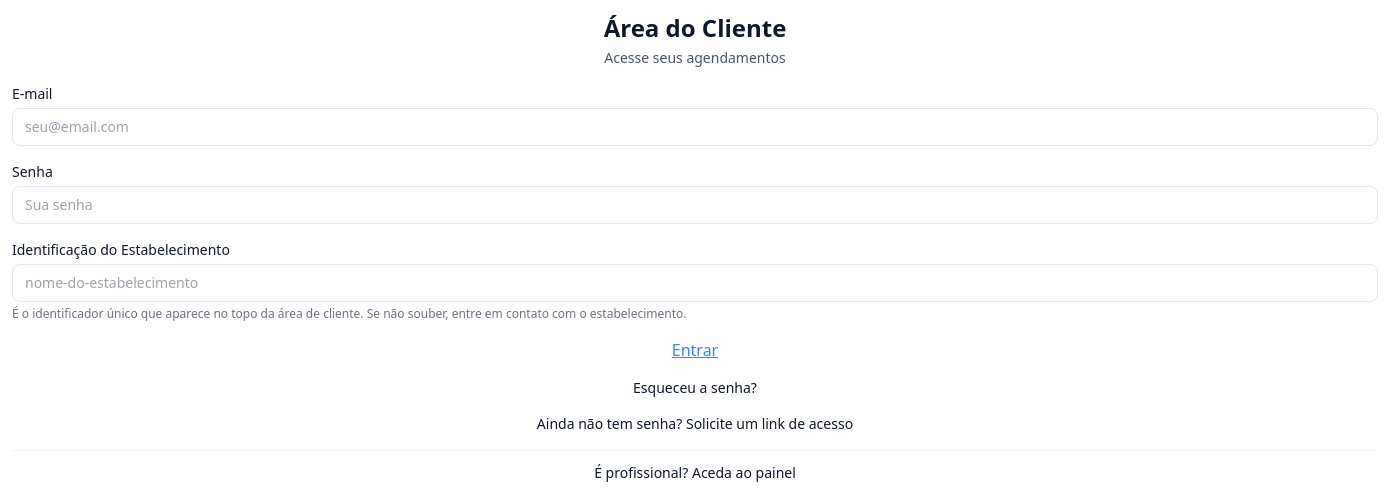
it: ClientLogin › Loading State › disables submit button while loading
The width and height of the screenshot is (1390, 499).
Type "test@email.com" into the field labelled "E-mail".
click(695, 127); type("test@email.com")  # box [12,108,1378,146]
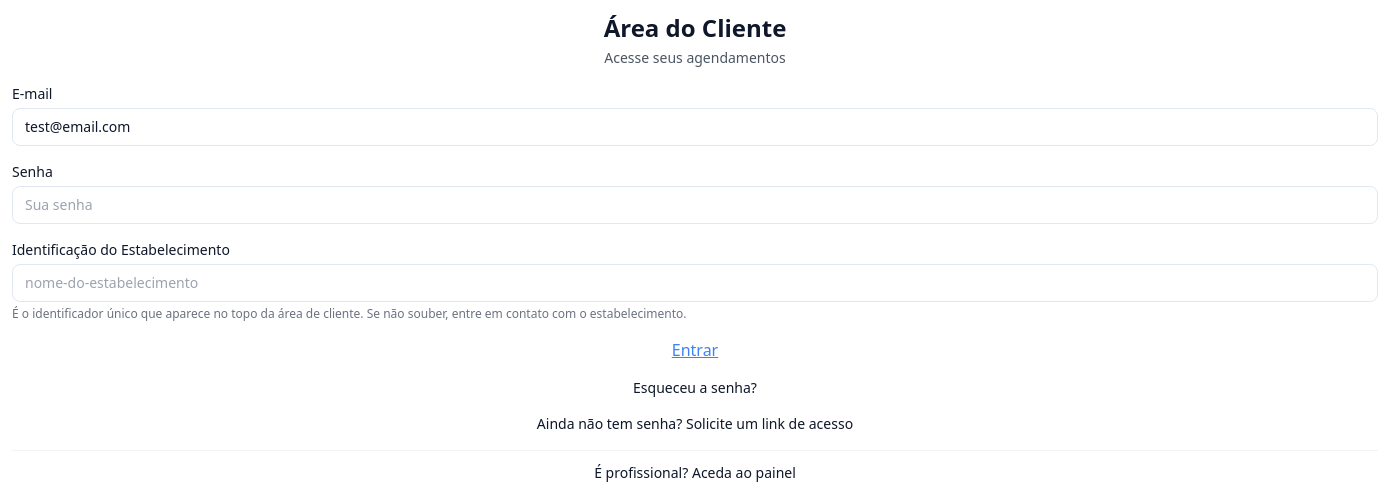
Type "password123" into the password field labelled "Senha".
click(695, 205); type("password123")  # box [12,186,1378,224]
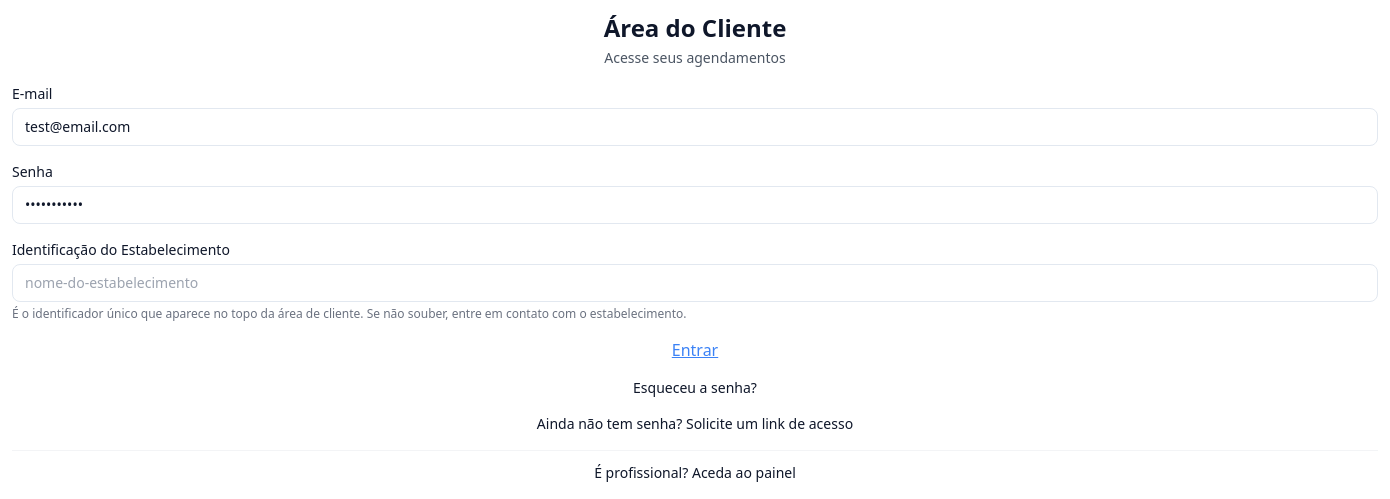
Type "test-salon" into the field labelled "Identificação do Estabelecimento".
click(695, 283); type("test-salon")  # box [12,264,1378,302]
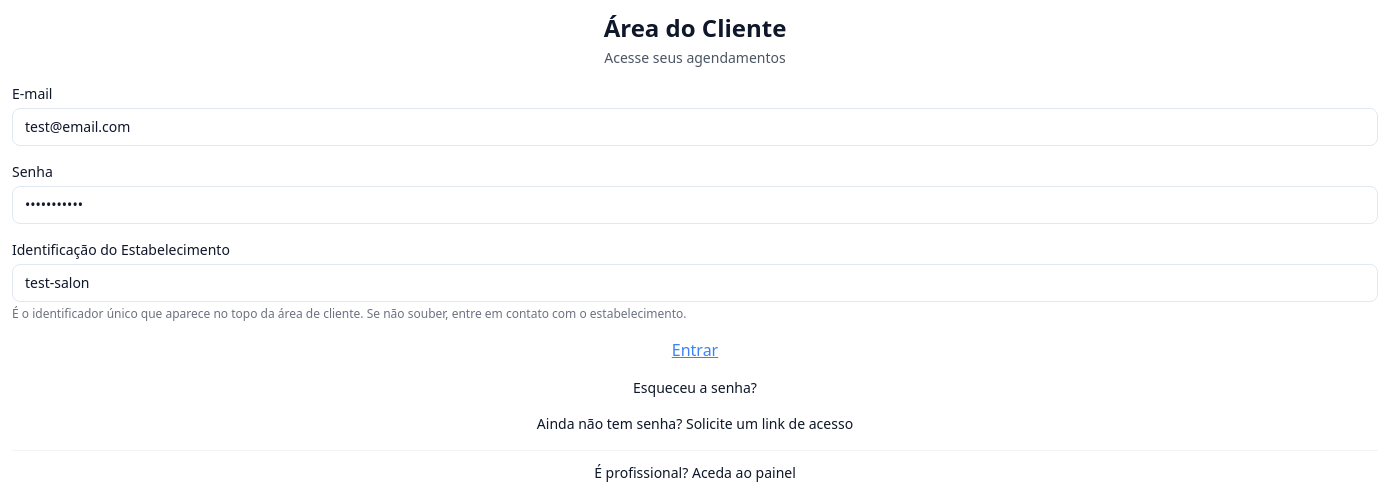
Click the button "Entrar".
click(695, 350)  # box [672,338,718,362]
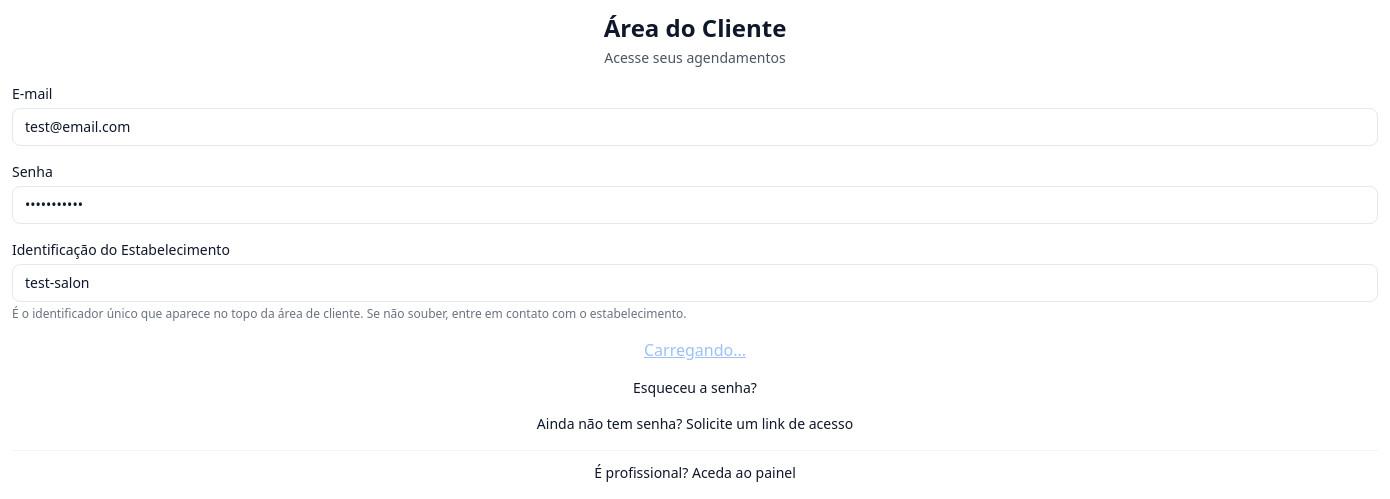
Expected: the button named "entrar" is disabled, [644,338,746,362]
